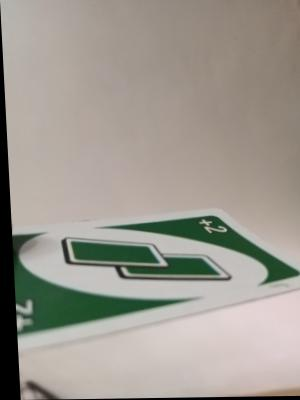-2: (191, 215, 225, 243)
green: (12, 232, 266, 311)
